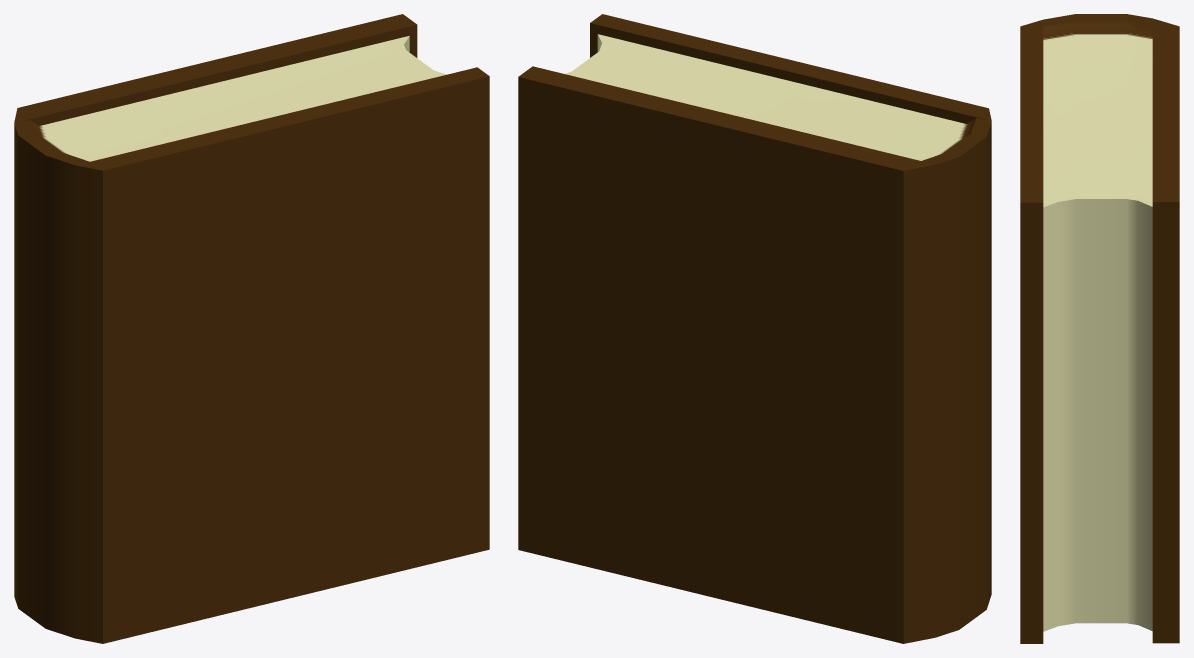
File: book.fbx
3 views of the same model, side by side, from view 1: azimuth 30°, elevation 25°; view 2: azimuth 150°, elevation 25°; view 3: azimuth 270°, elevation 25° (orthographic). The views are drawn at different scales.
Parts seen in each view (by area): view 1: pCube1; view 2: pCube1; view 3: pCube1.
Part boxes in pixels (left/top/right/bottom): pCube1: left=14, top=14, right=489, bottom=643; pCube1: left=518, top=14, right=991, bottom=643; pCube1: left=1020, top=14, right=1179, bottom=643.
Size of the model in its own units: 2.79 by 3.05 by 1.
